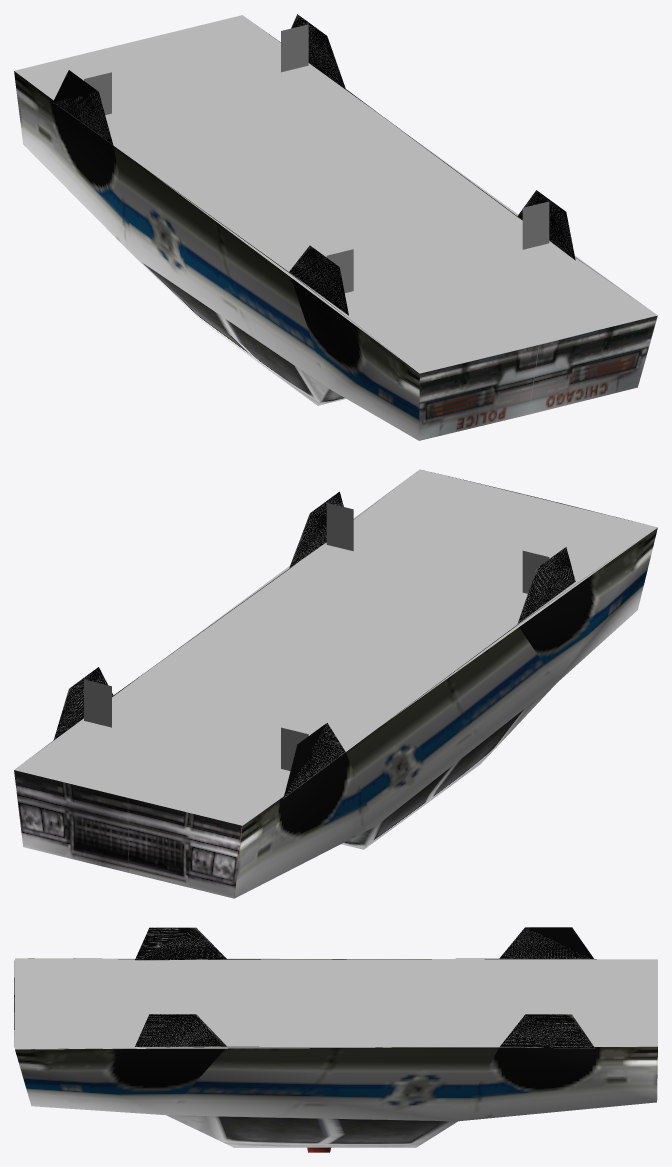
The model's file is CHICAGO_model0_low.obj.
The picture shows the model from 3 angles, top to bottom: view 1: azimuth 30°, elevation 25°; view 2: azimuth 150°, elevation 25°; view 3: azimuth 270°, elevation 25°; orthographic projection. The views are drawn at different scales.
Visible parts, largest first — view 1: CHICAGO_model0_low; view 2: CHICAGO_model0_low; view 3: CHICAGO_model0_low.
Boxes of the visible parts, x1,y1,x2,y2 form: CHICAGO_model0_low: [14, 14, 657, 440]; CHICAGO_model0_low: [14, 469, 657, 898]; CHICAGO_model0_low: [14, 927, 657, 1152].
Bounding box in the file's own units: 250 × 208 × 742.
